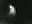person: (9, 5, 18, 18)
